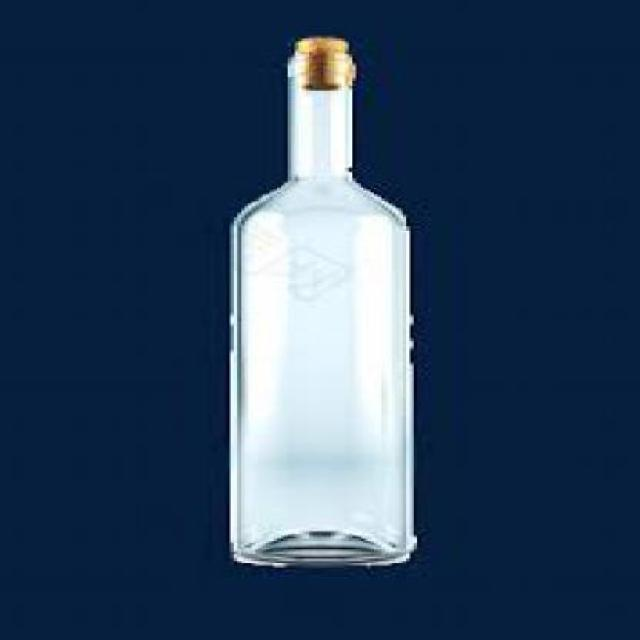kaca: (220, 75, 411, 563)
